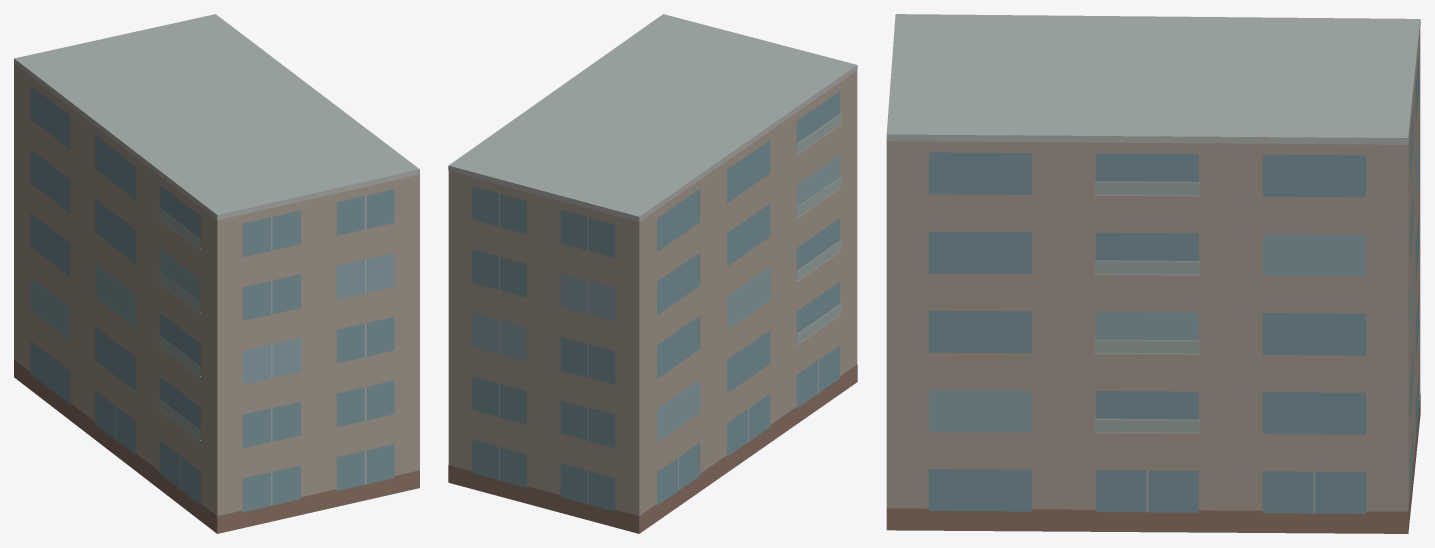
Rendered from survey-upis-32730007.glb.
3 renders of one model, left to right at view 1: azimuth 30°, elevation 25°; view 2: azimuth 150°, elevation 25°; view 3: azimuth 270°, elevation 25°, orthographic. The views are drawn at different scales.
Visible parts, largest first — view 1: survey-upis-32730007.tmp; view 2: survey-upis-32730007.tmp; view 3: survey-upis-32730007.tmp.
Boxes of the visible parts, box(x1,y1,x2,y2) form: survey-upis-32730007.tmp: box(14, 14, 419, 533); survey-upis-32730007.tmp: box(448, 14, 857, 533); survey-upis-32730007.tmp: box(886, 14, 1420, 533).
Bounding box in the file's own units: 9.83 × 14.6 × 17.86.
